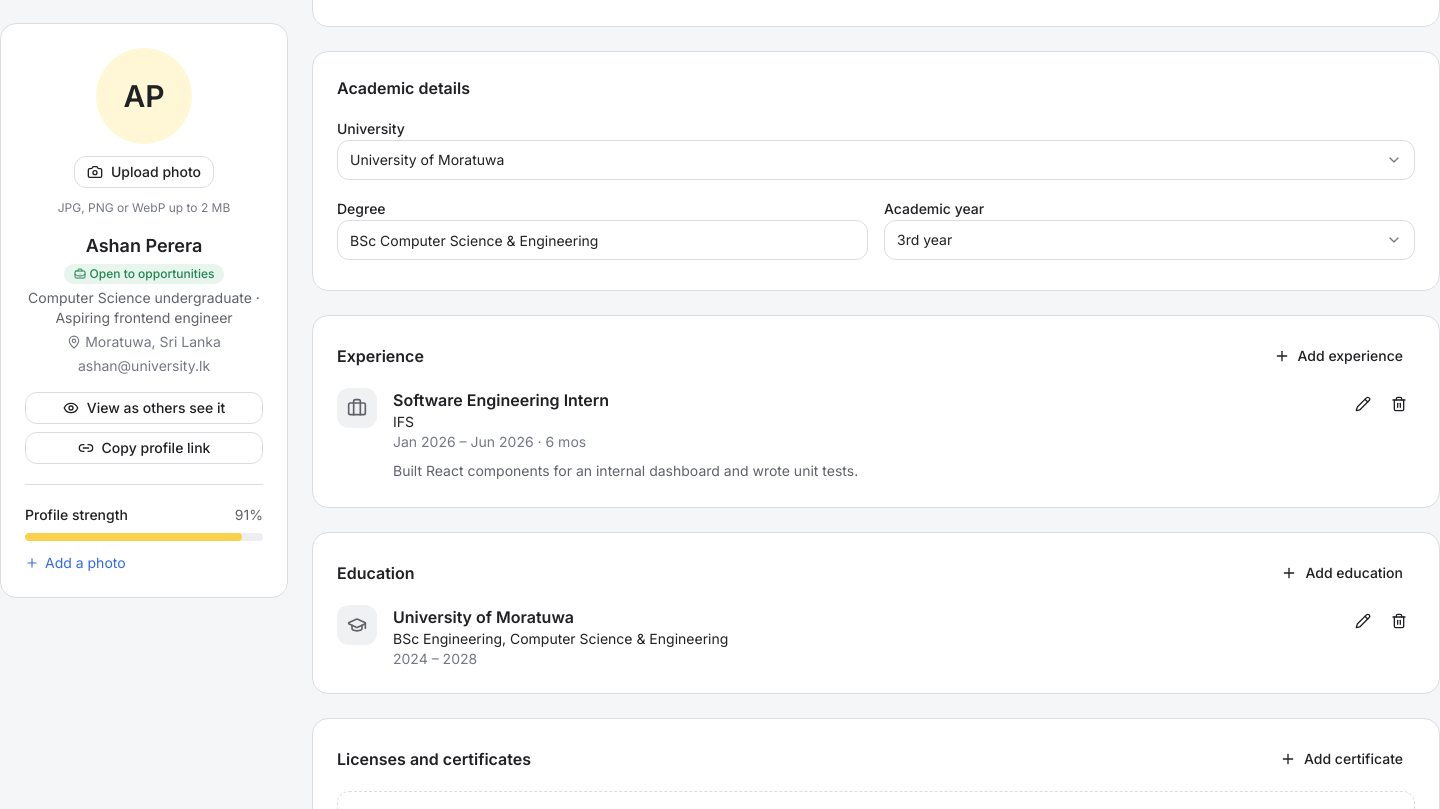
it: StudentProfileForm › edits an experience in a dialog without saving the whole profile
The image size is (1440, 809).
(page scrolled)
Click the button named "Edit experience" at (1363, 404), box [1347,388,1379,420]
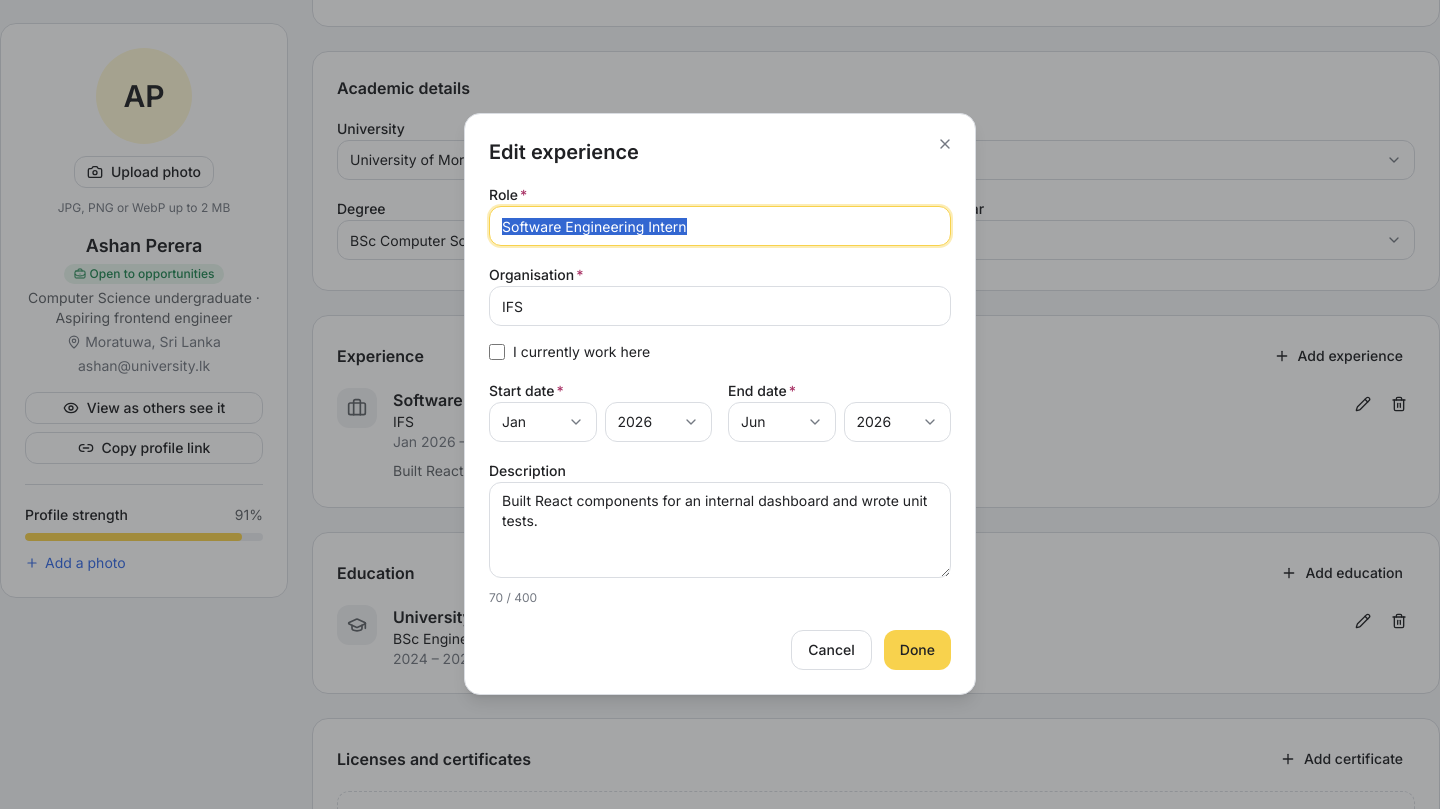
Clear the field labelled "Role*" at (720, 226), box [489,206,951,246]
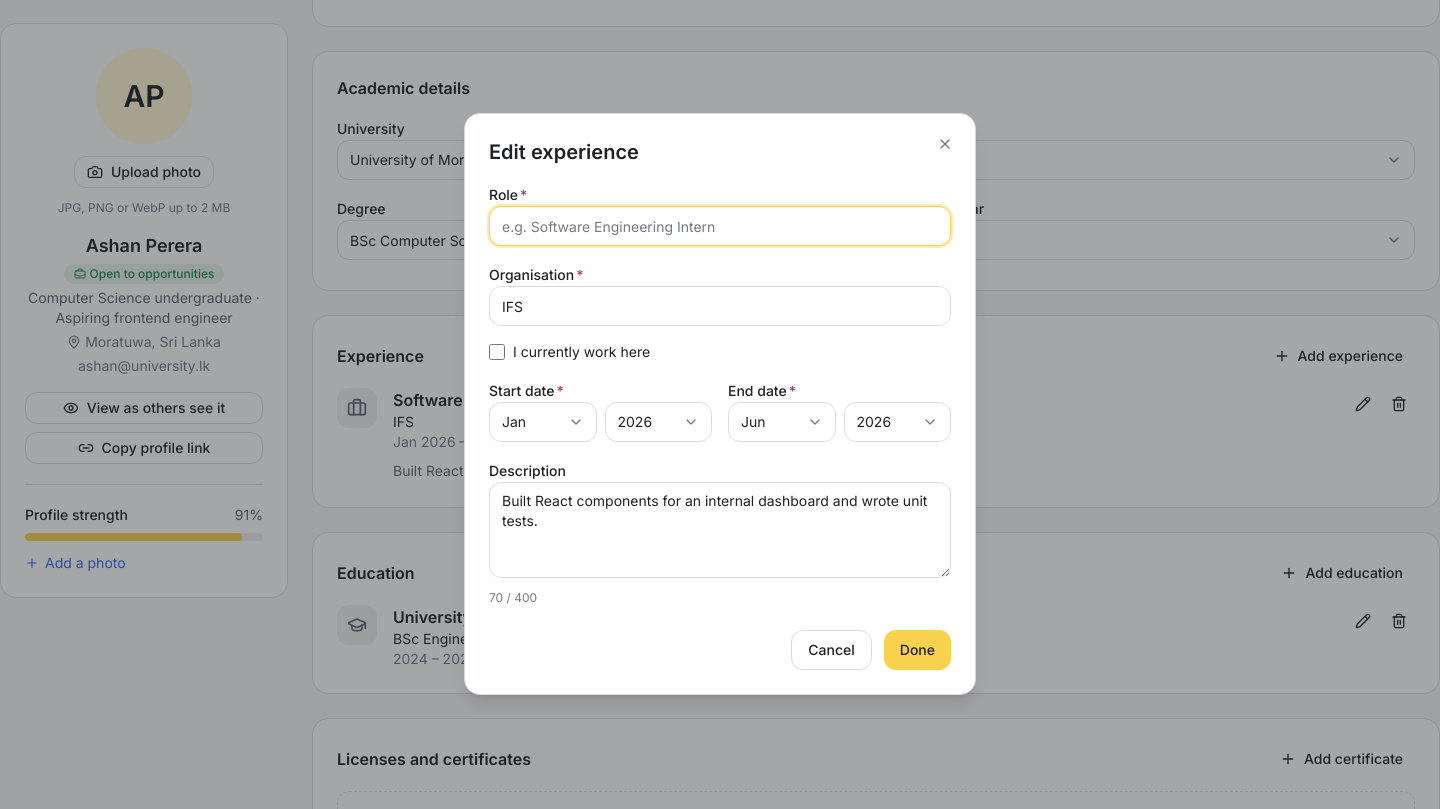
Click the button "Done" at (917, 650), box [884,630,951,670]
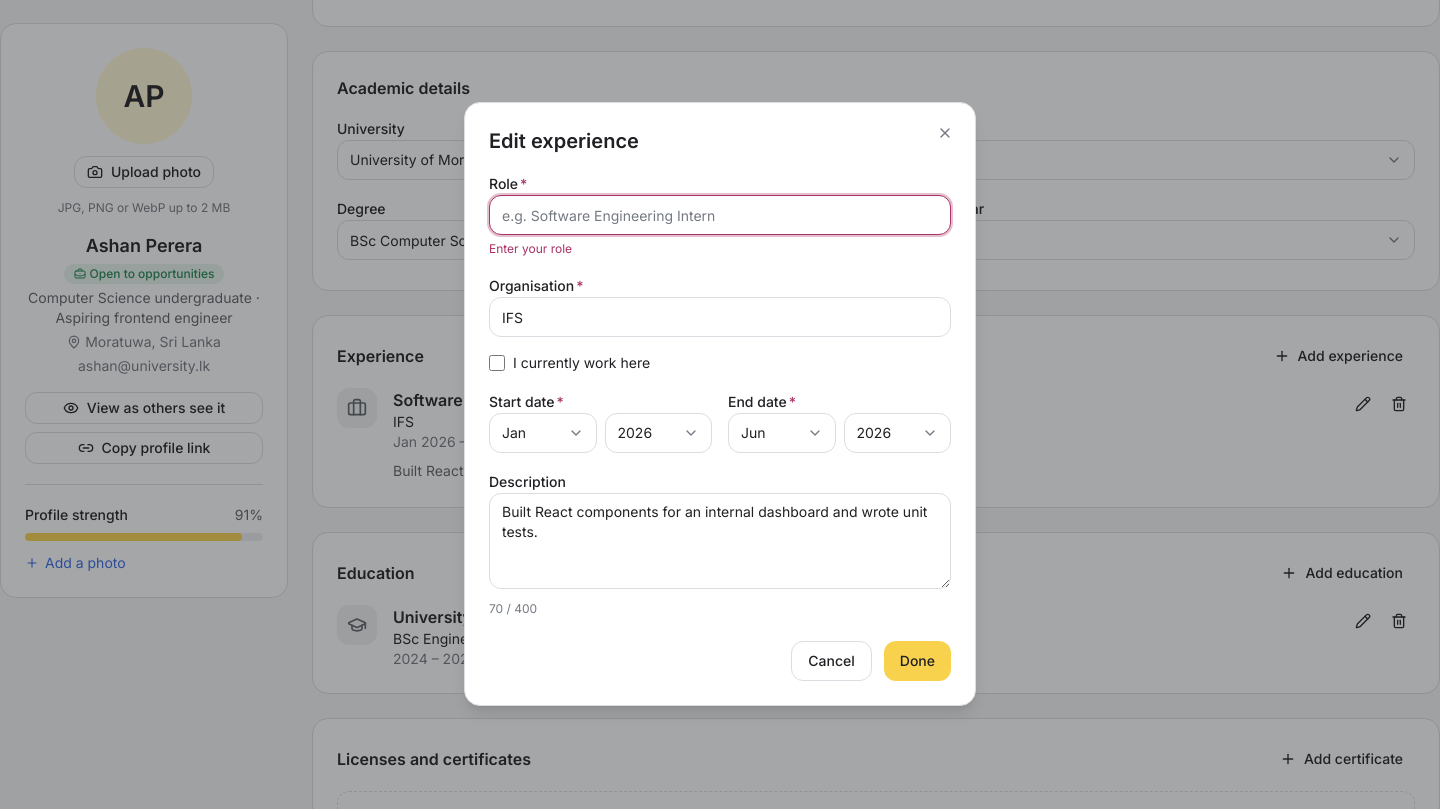
Expected: the text "Enter your role" is shown, [489,241,572,256]
Type "Frontend Intern" into the field labelled "Role*" at (720, 215), box [489,195,951,235]
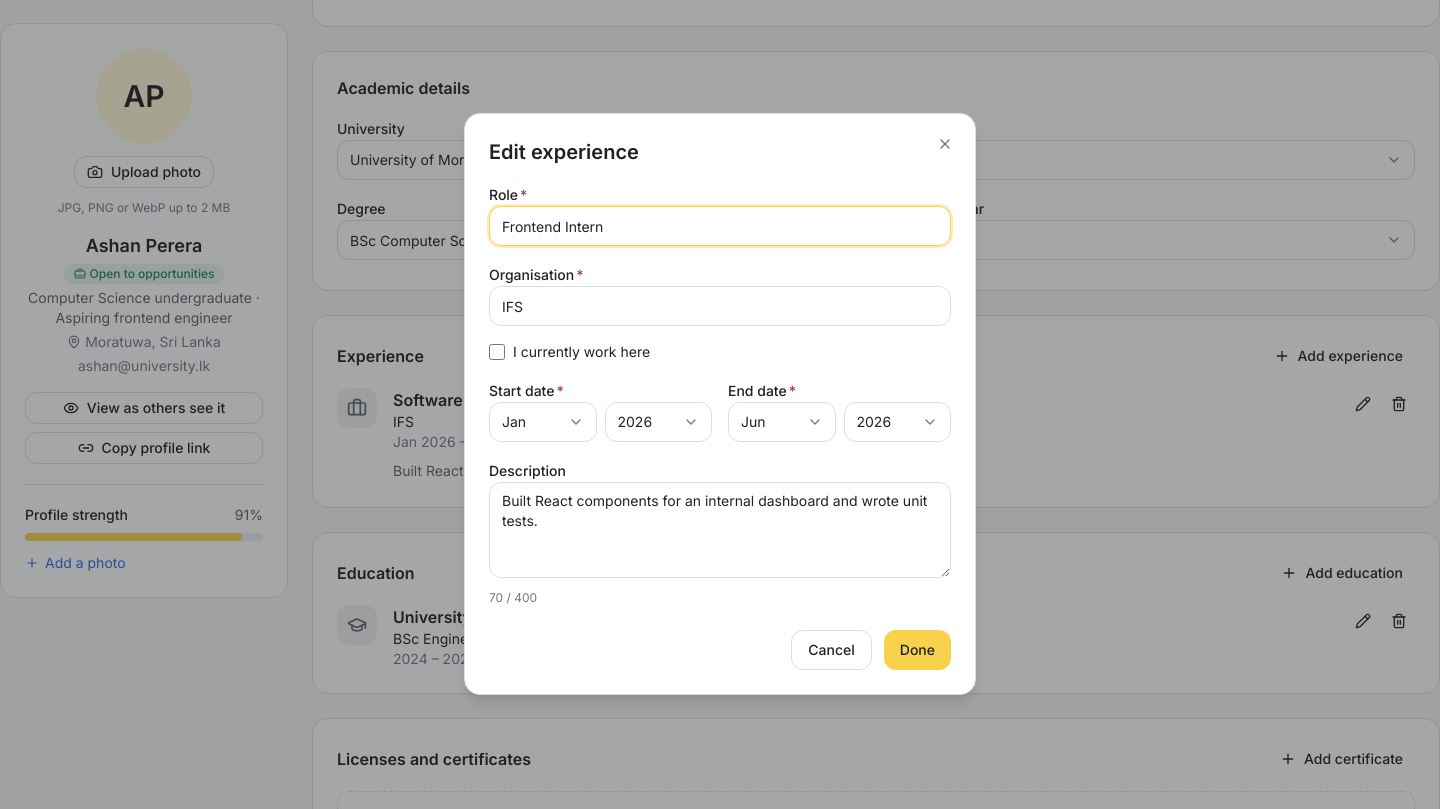
Click the button "Done" at (917, 650), box [884,630,951,670]
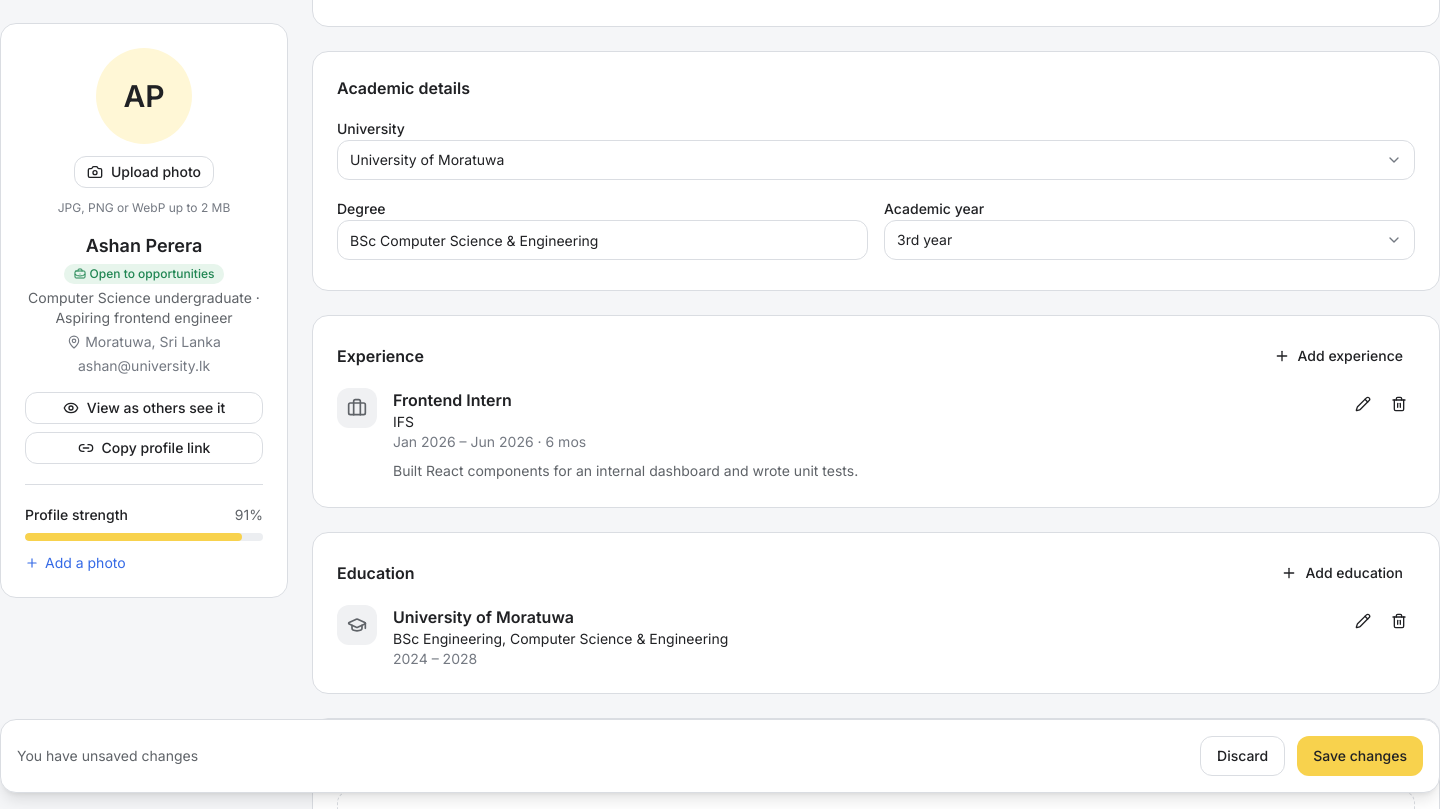
Expected: the dialog is gone
Expected: the heading "Frontend Intern" is shown, [393,390,512,410]
Expected: the button "Save changes" is enabled, [1297,736,1423,776]
